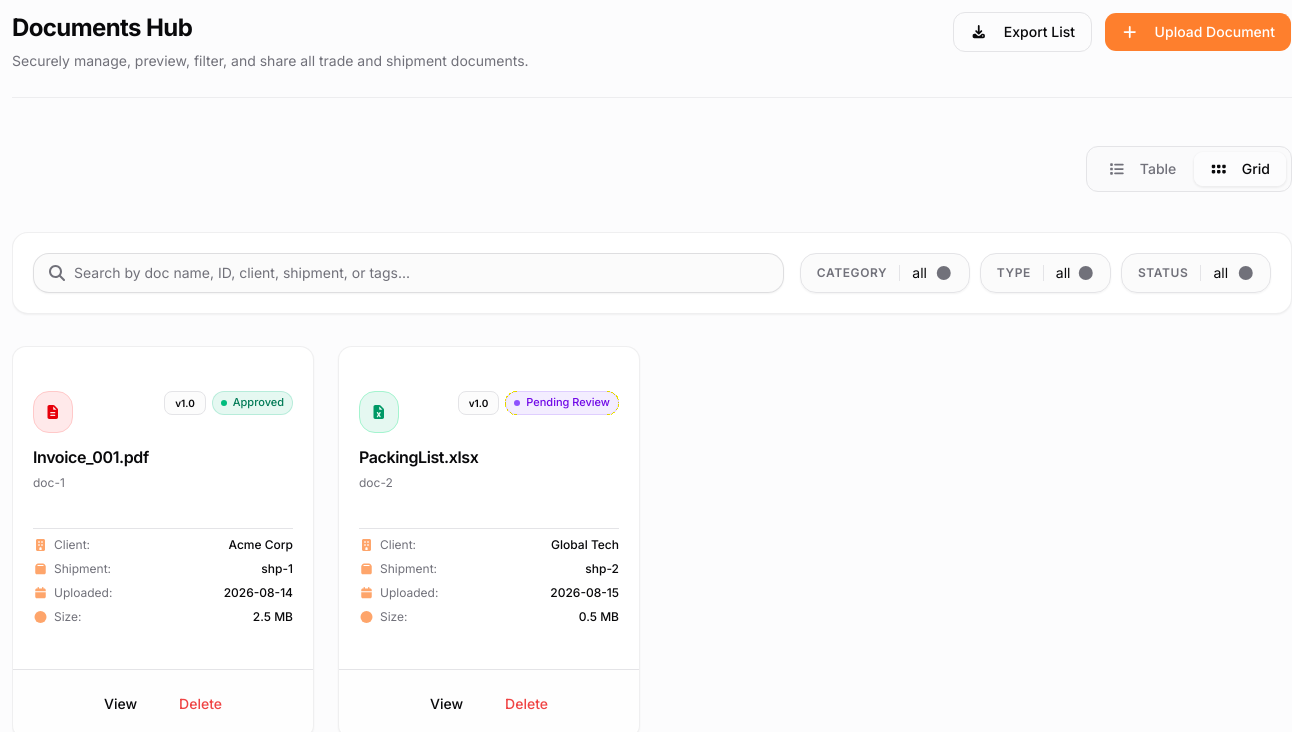
Test: Documents Page › filters documents by search query
The image size is (1292, 732).
Type "Invoice" into the field with placeholder "Search by doc name, ID, client, shipment, or tags..." at (408, 273), box x1=33 y1=253 x2=784 y2=293
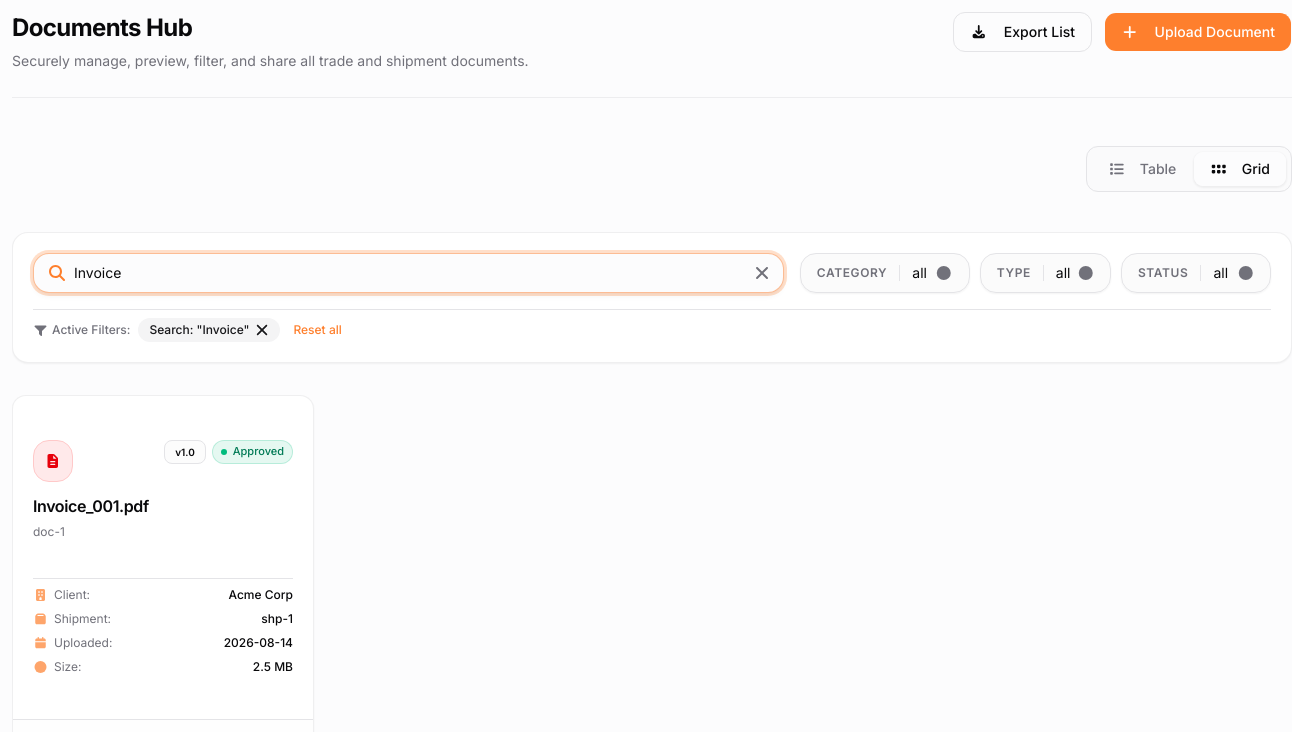
Expected: the link "Invoice_001.pdf" is shown, x1=33 y1=496 x2=149 y2=516
Now the link "PackingList.xlsx" is gone
